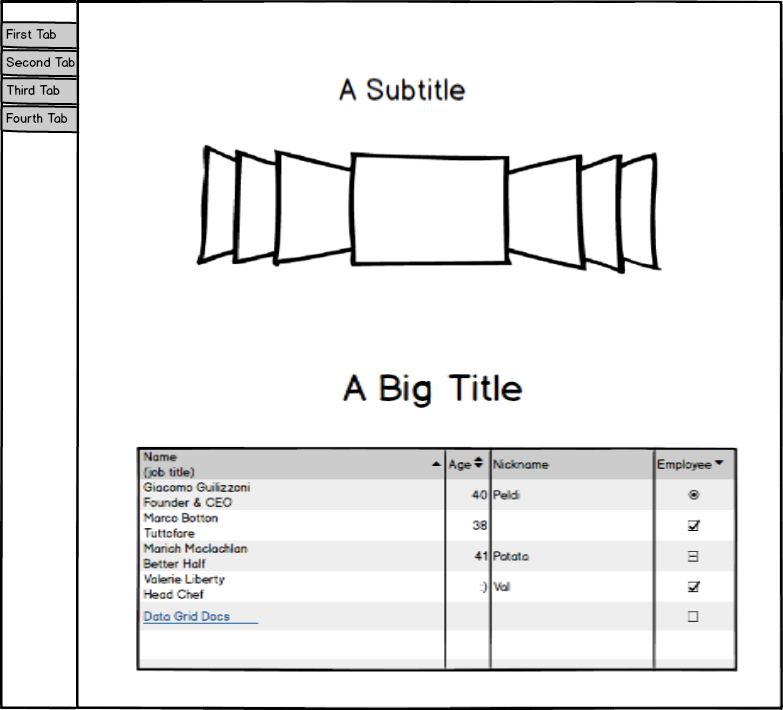h1: (327, 367, 525, 411), (323, 59, 474, 112)
sidebar: (1, 22, 87, 140)
slideshow: (183, 141, 664, 283)
table: (132, 442, 742, 676)
